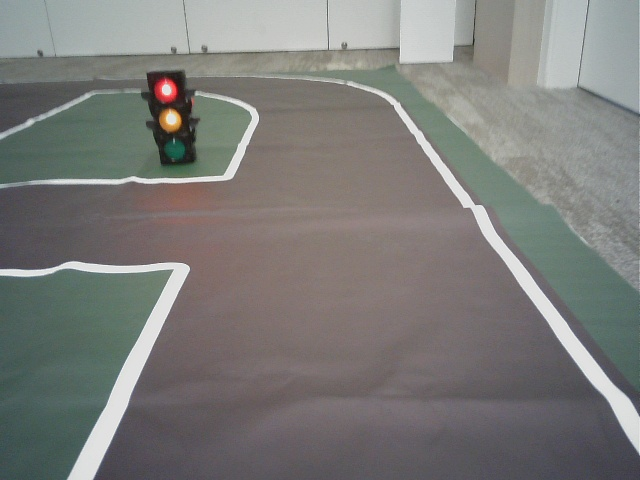red: (151, 74, 190, 165)
